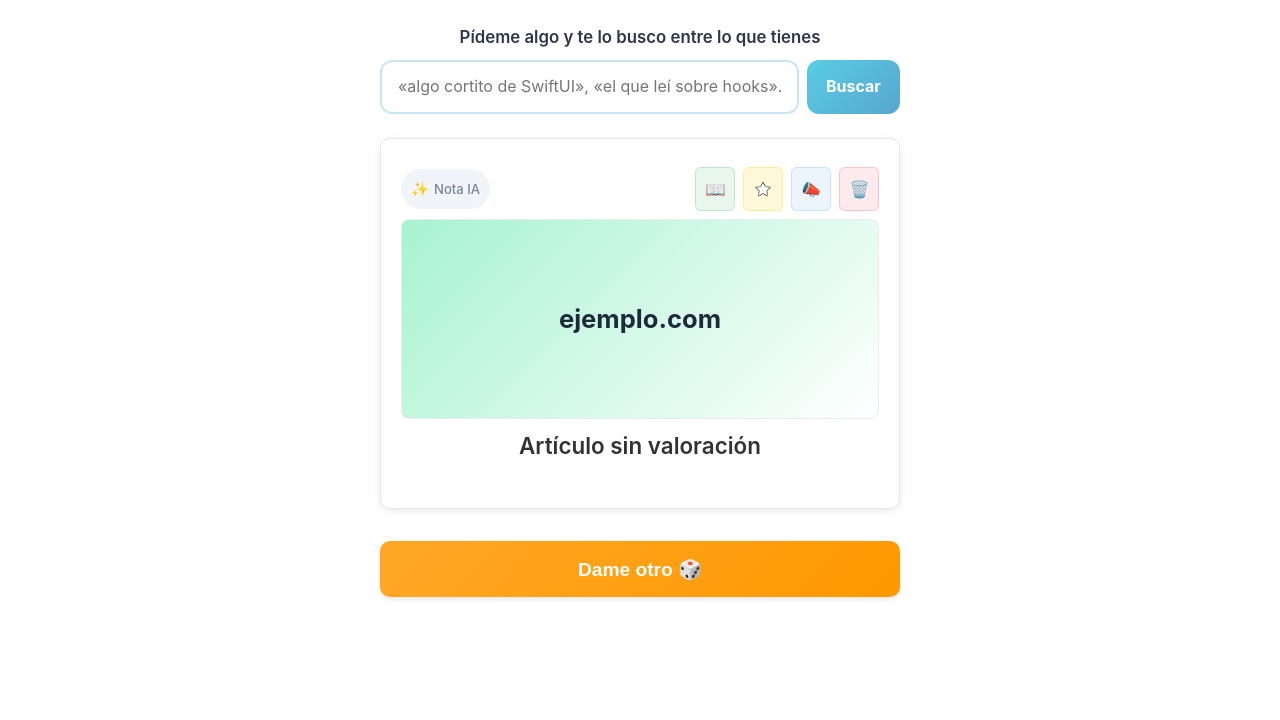
Test: RandomArticle - Valoración IA › sin rating muestra badge neutro y popover con mensaje de Telegram
Note: El popover con el mensaje de Telegram aparece al clicar
Click the button with aria-label "Nota IA. Toca para saber cómo activarla".
click(446, 189)  # box [401,169,490,209]
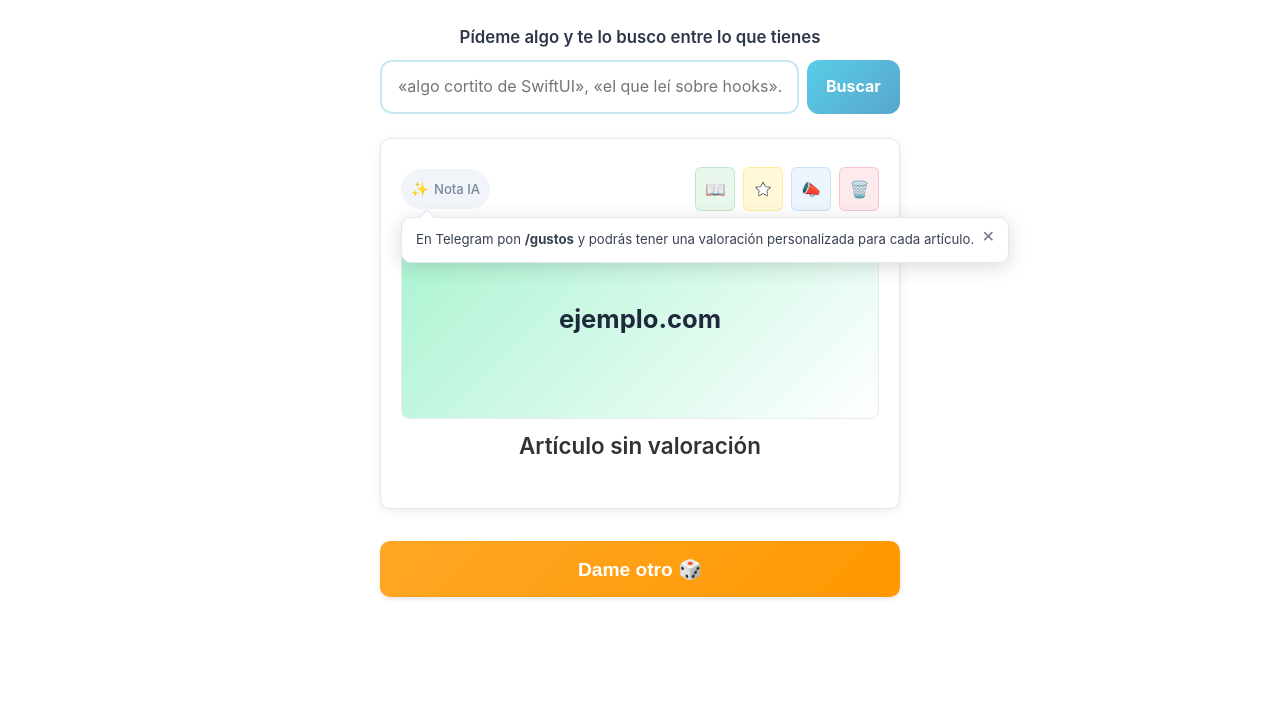
Check: the text "/gustos" is shown, box [525,231,574,247]
Check: the text "Telegram" is shown, box [416,231,525,247]
